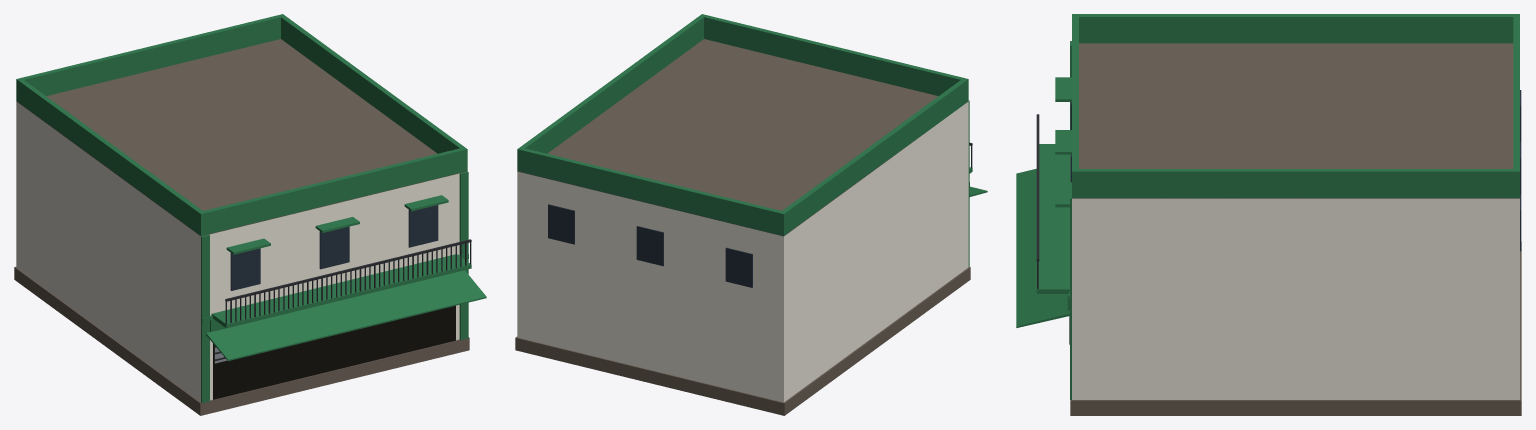
Rendered from bld_ot_tiffin.glb.
3 views of the same model, side by side, from view 1: azimuth 30°, elevation 25°; view 2: azimuth 150°, elevation 25°; view 3: azimuth 270°, elevation 25° (orthographic). The views are drawn at different scales.
Parts seen in each view (by area): view 1: bld_ot_tiffin; view 2: bld_ot_tiffin; view 3: bld_ot_tiffin.
Boxes of the visible parts, bbox=[...] form: bld_ot_tiffin: bbox=[14, 14, 486, 415]; bld_ot_tiffin: bbox=[515, 14, 987, 415]; bld_ot_tiffin: bbox=[1016, 14, 1521, 415].
Size of what is drawn, in the model's own units: 10.1 by 7.2 by 13.55.
